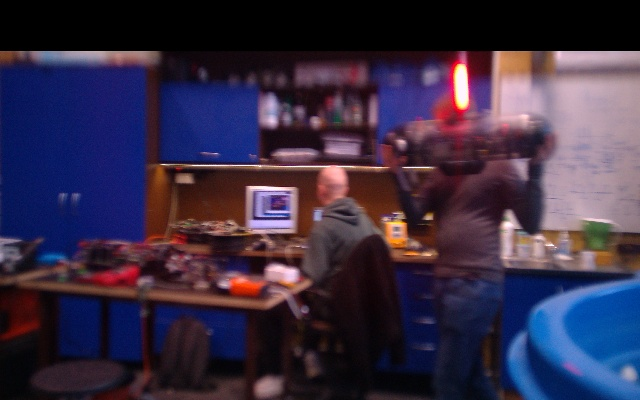red: (452, 63, 468, 112)
